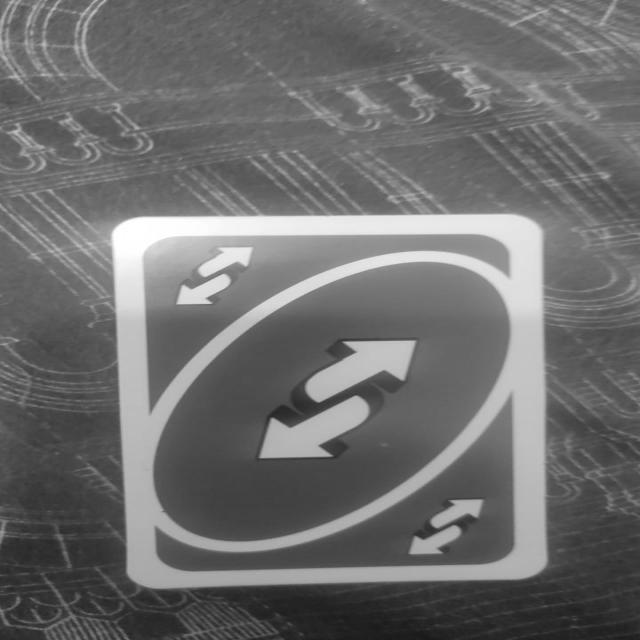reverse_card: (112, 213, 548, 589)
